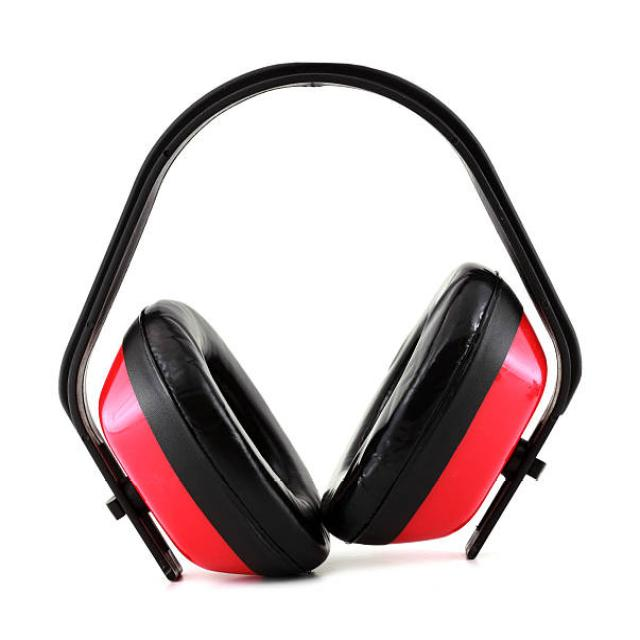Ear-protection: (51, 56, 606, 594)
